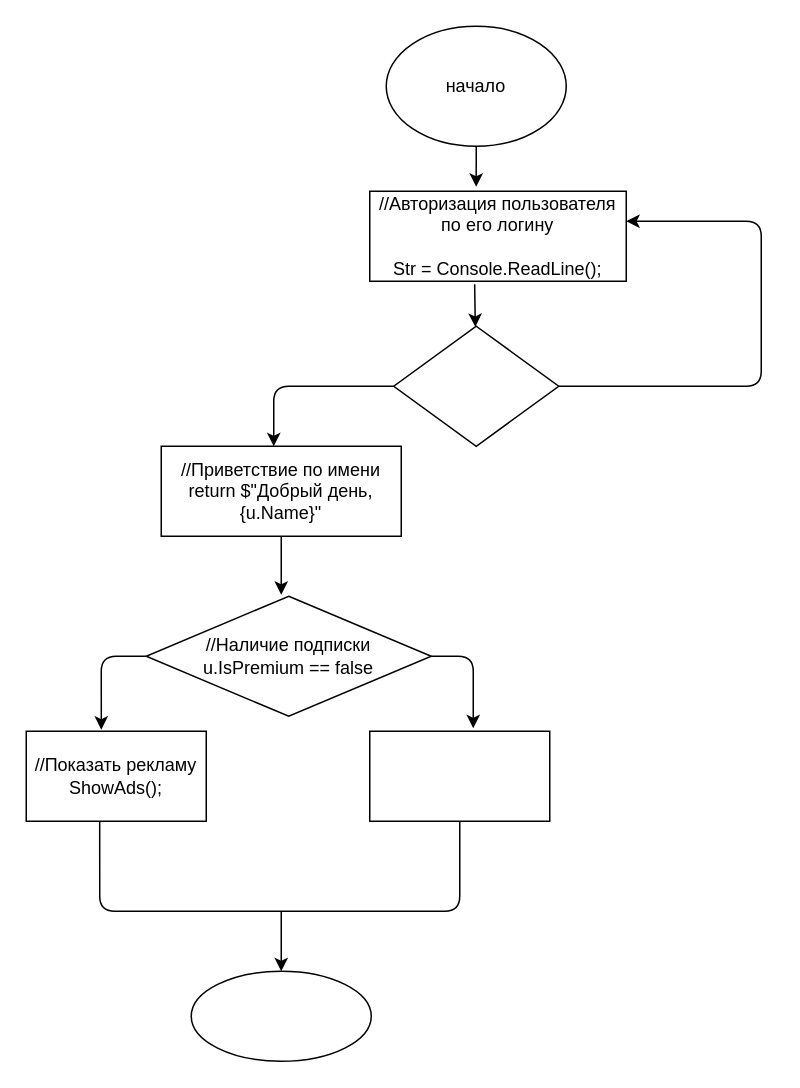
Some shapes in this 800 by 1088 pixel diagram are drawn without their labels. Each missing label, with the centre of its shape:
return "": (x=459, y=775)
u.Login == Str: (x=475, y=385)
Конец: (x=280, y=1015)
